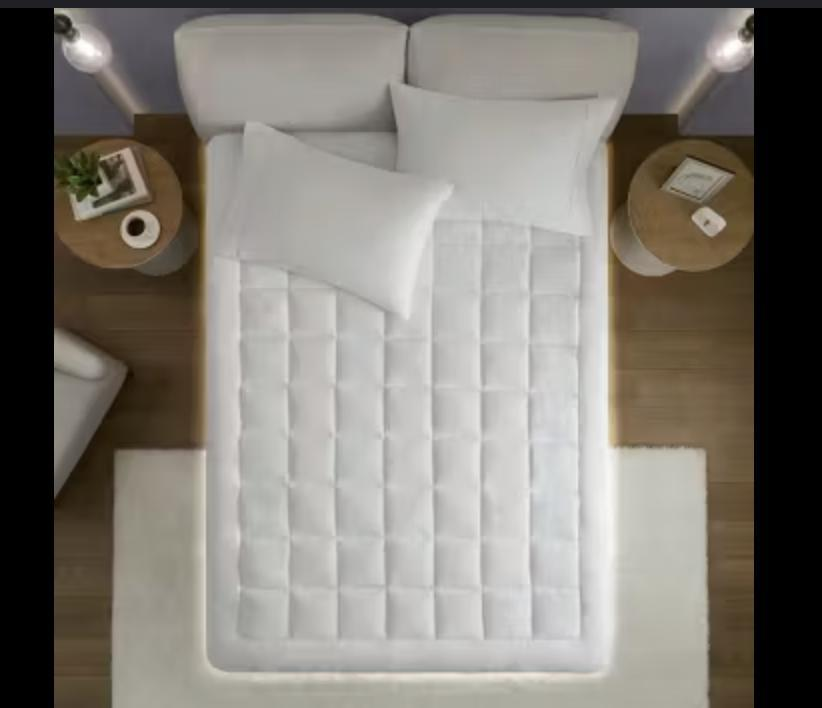Bed-Mattress: (166, 12, 640, 684)
